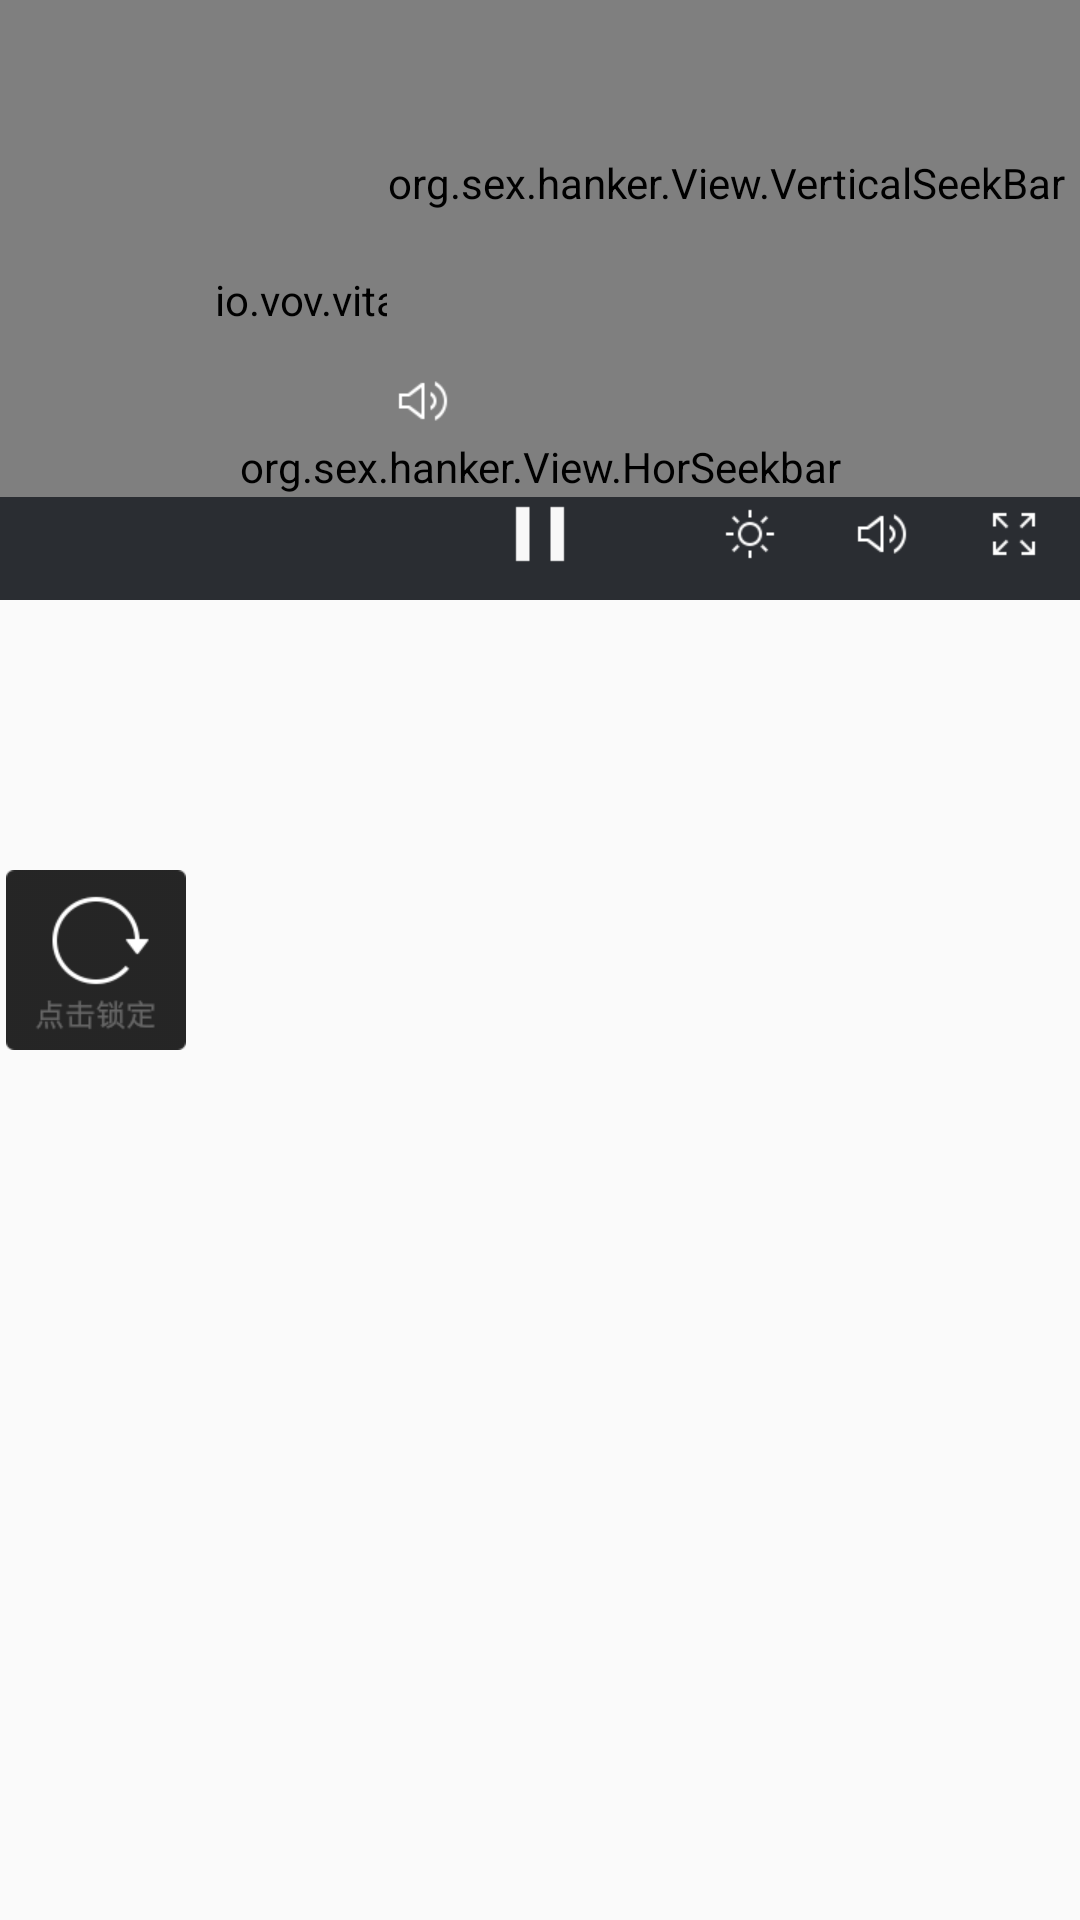

Where to tap for icons on this 1080px×1920px app screen, as [x,y]:
player brightness: [750,534]
player pause: [540,534]
player volume: [423,401], [882,534]
